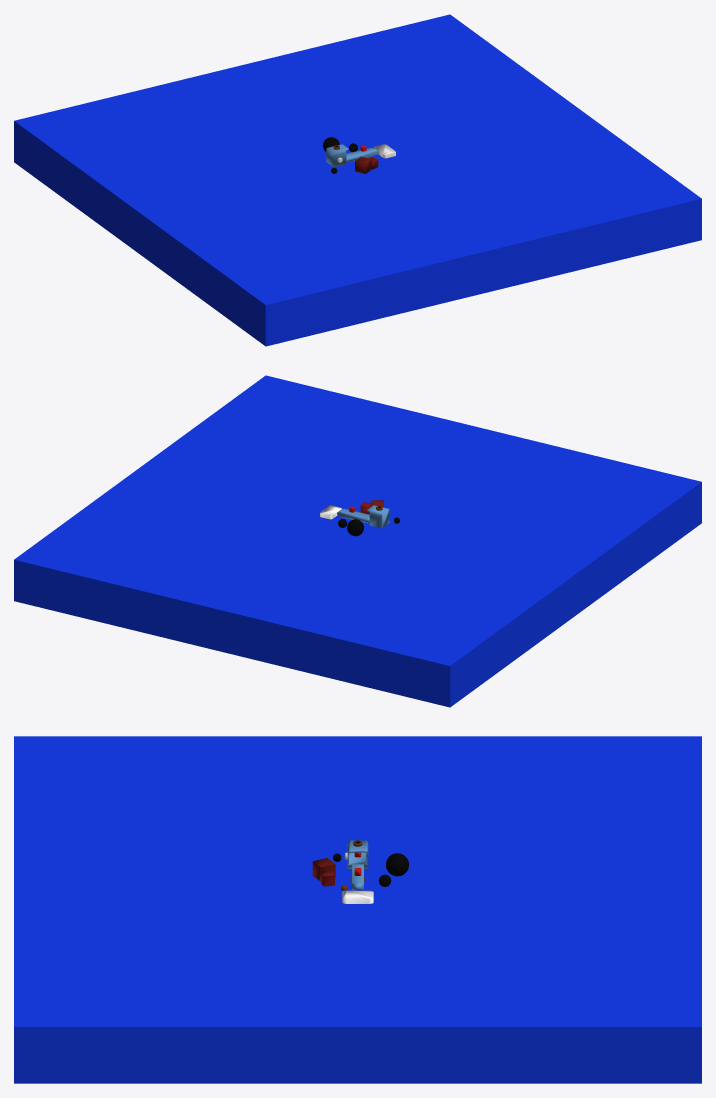
The model's file is uploads_files_5086116_conveyor+belt.fbx.
3 renders of one model, top to bottom at view 1: azimuth 30°, elevation 25°; view 2: azimuth 150°, elevation 25°; view 3: azimuth 270°, elevation 25°, orthographic. The views are drawn at different scales.
Parts seen in each view (by area): view 1: Plane.004; view 2: Plane.004; view 3: Plane.004.
Part boxes in pixels (bbox=[...]): Plane.004: bbox=[14, 14, 701, 346]; Plane.004: bbox=[14, 375, 701, 707]; Plane.004: bbox=[14, 736, 701, 1083].
Bounding box in the file's own units: 33.62 × 4.46 × 33.62.
